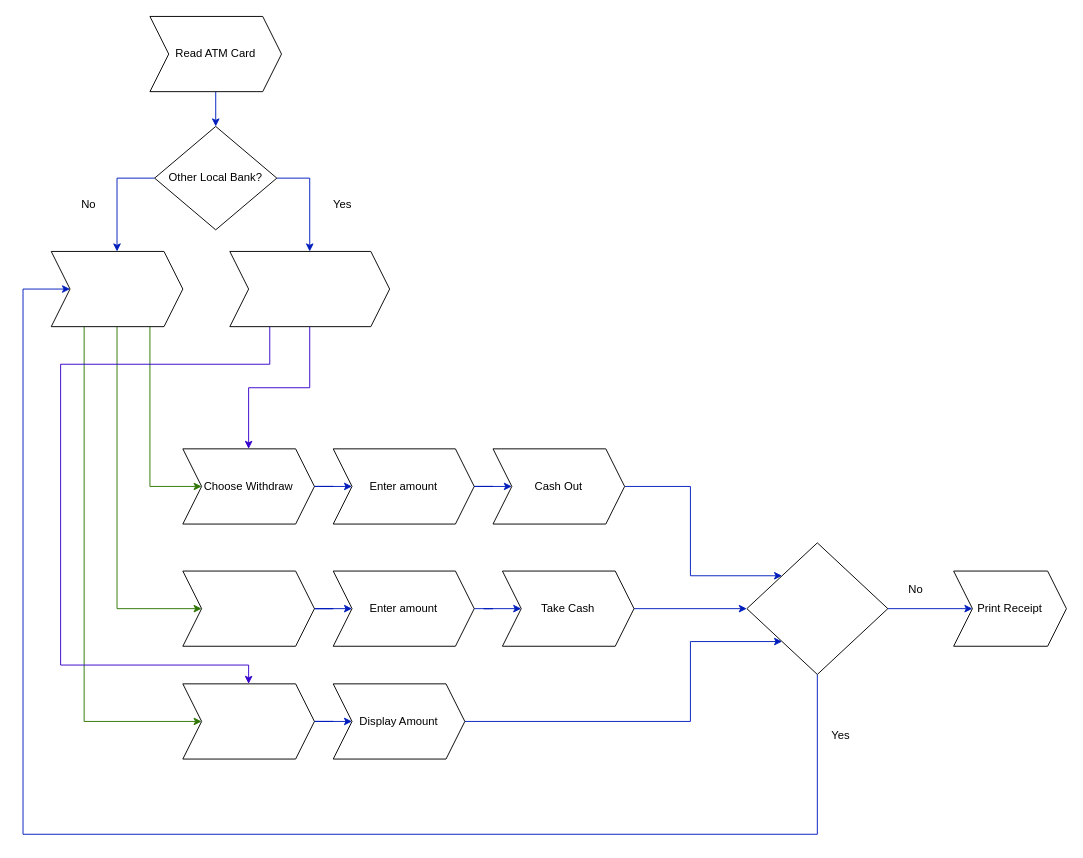
This 1083x858 diagram has some shape labels left out. Each missing label, with the centre of its shape:
Another Transaction?: the point at 817,608
Check balance: the point at 248,721
Choose Deposit: the point at 248,608
Enter Other Bank PIN: the point at 309,289
Enter Pin: the point at 116,289
